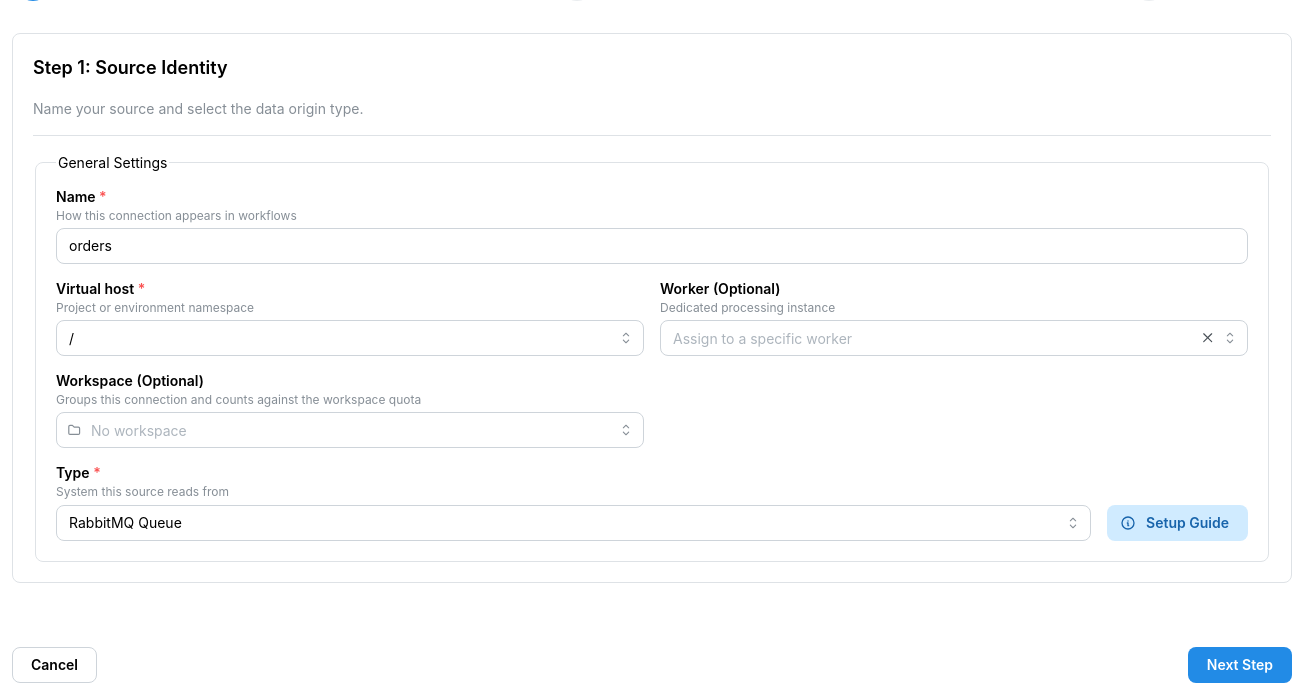
Test: rabbitmq queue connection step › enables Next once the host fields and queue name are filled
This screenshot has width=1304, height=683.
Click the button "Next Step" at (1240, 664), box [1188,646,1292,682]
(page scrolled)
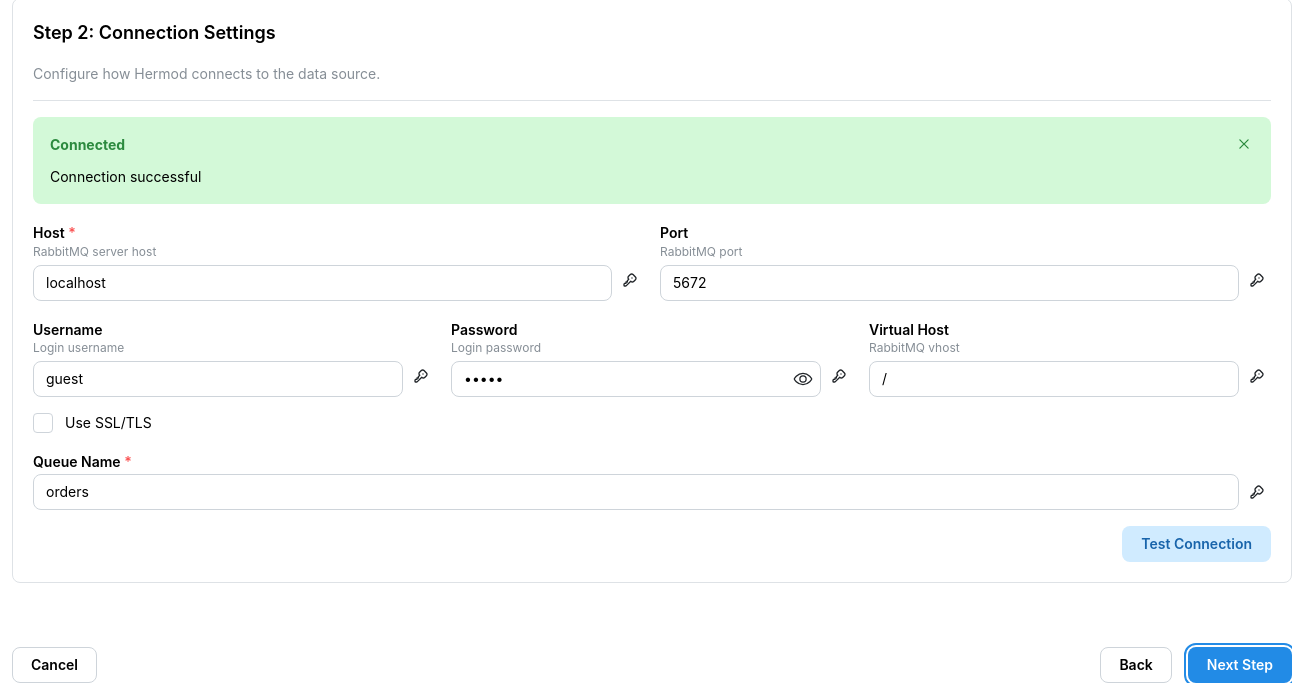
expect the text "Step 2: Connection Settings" is shown: met, box [33,22,276,43]
